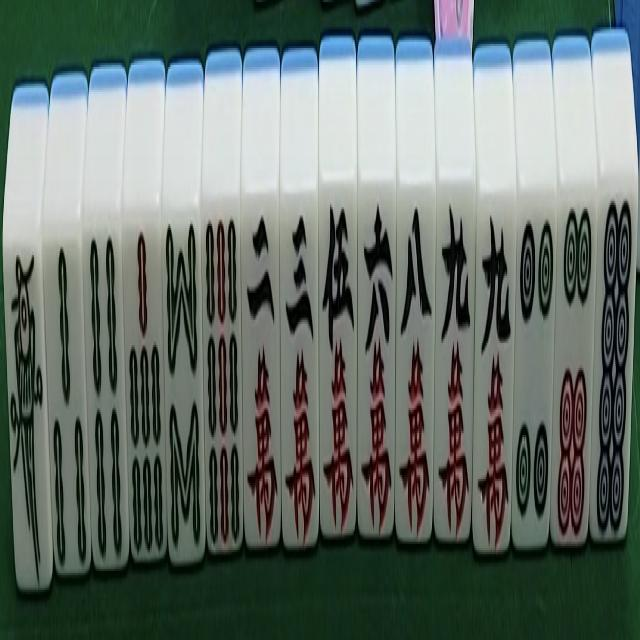m2: (240, 44, 283, 563)
m3: (279, 44, 321, 560)
m5: (318, 33, 358, 550)
m6: (356, 32, 395, 551)
m8: (393, 37, 435, 557)
m9: (472, 40, 516, 566), (433, 37, 475, 556)
s1: (1, 78, 53, 603)
s3: (42, 70, 91, 594)
s4: (82, 64, 130, 592)
s7: (121, 59, 166, 584)
s8: (161, 58, 206, 576)
s9: (200, 51, 245, 570)
t4: (508, 38, 556, 570)
t6: (550, 34, 596, 561)
t8: (588, 29, 638, 562)
